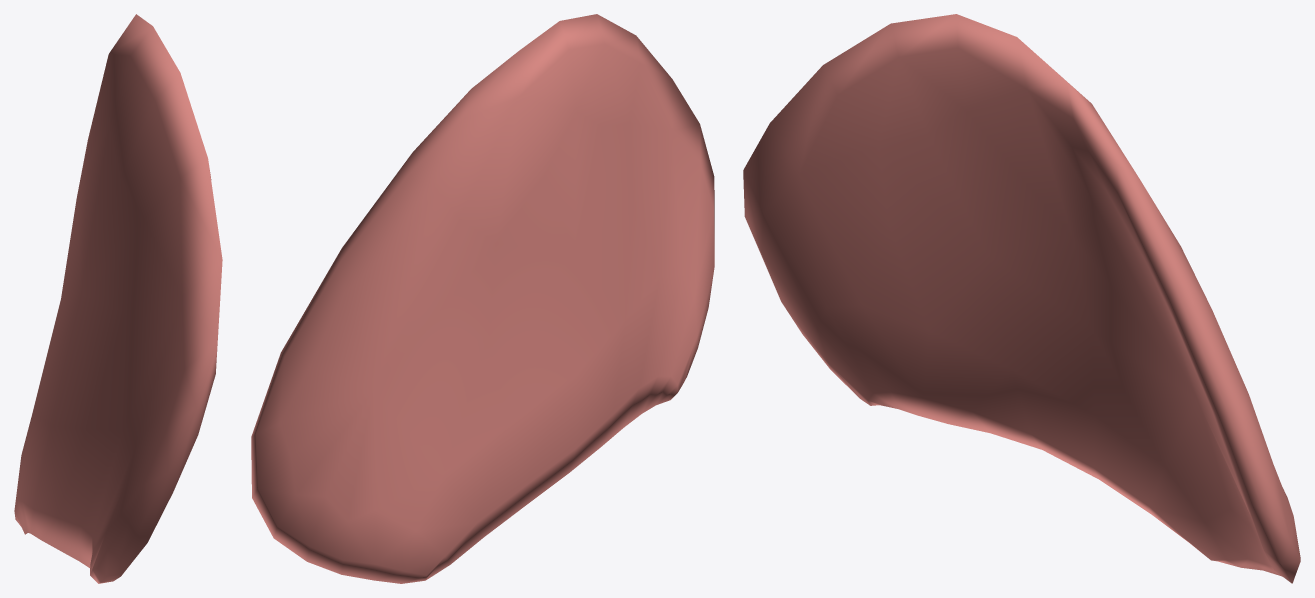
3 renders of one model, left to right at view 1: azimuth 30°, elevation 25°; view 2: azimuth 150°, elevation 25°; view 3: azimuth 270°, elevation 25°, orthographic. The views are drawn at different scales.
Parts seen in each view (by area): view 1: ZA_9e71e32ae7d63770; view 2: ZA_9e71e32ae7d63770; view 3: ZA_9e71e32ae7d63770.
Boxes of the visible parts, bbox=[...] form: ZA_9e71e32ae7d63770: bbox=[14, 14, 222, 583]; ZA_9e71e32ae7d63770: bbox=[251, 14, 714, 583]; ZA_9e71e32ae7d63770: bbox=[743, 14, 1300, 583].
Size of the model in its own units: 0.00388 by 0.00686 by 0.00645.
